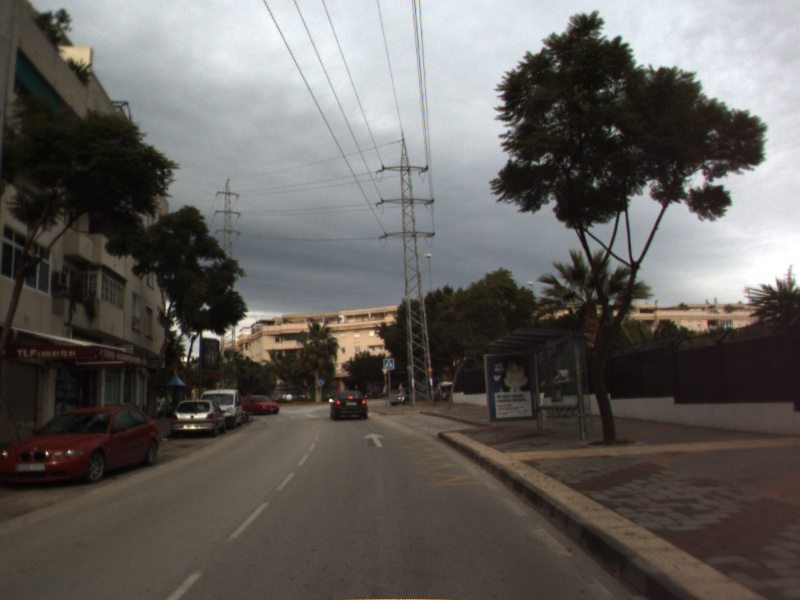STRAIGHT: (361, 431, 390, 449)
